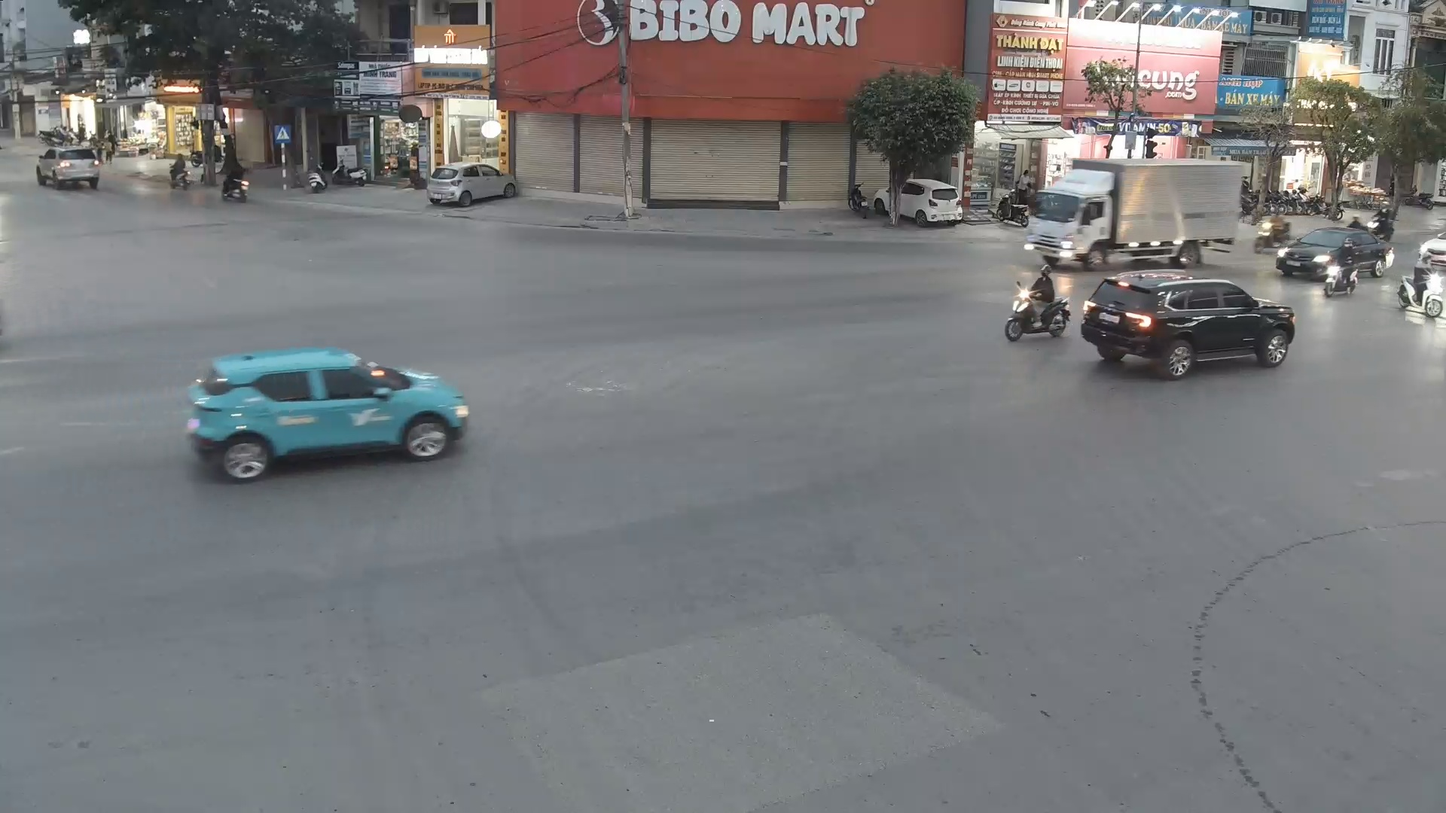car: (183, 345, 472, 479), (1079, 270, 1296, 378), (1275, 220, 1392, 281), (426, 163, 520, 211), (36, 140, 102, 192)
motorbike: (1002, 259, 1074, 343), (1323, 236, 1360, 298)
truck: (1024, 152, 1250, 273)
